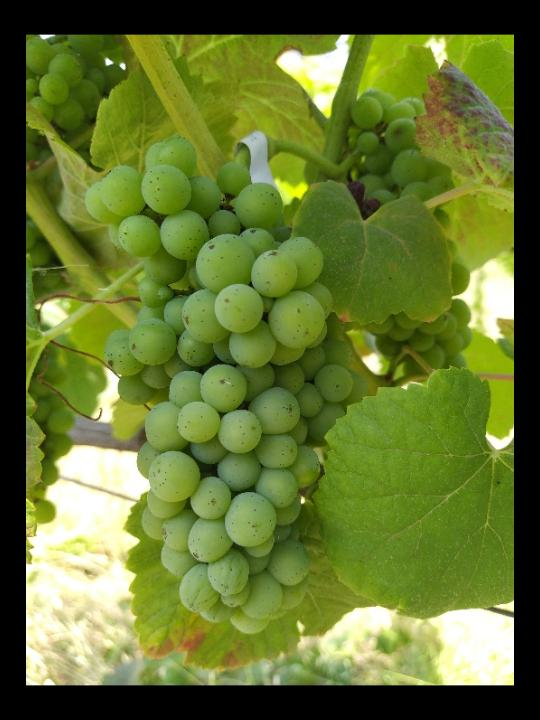grape: (87, 134, 357, 642)
